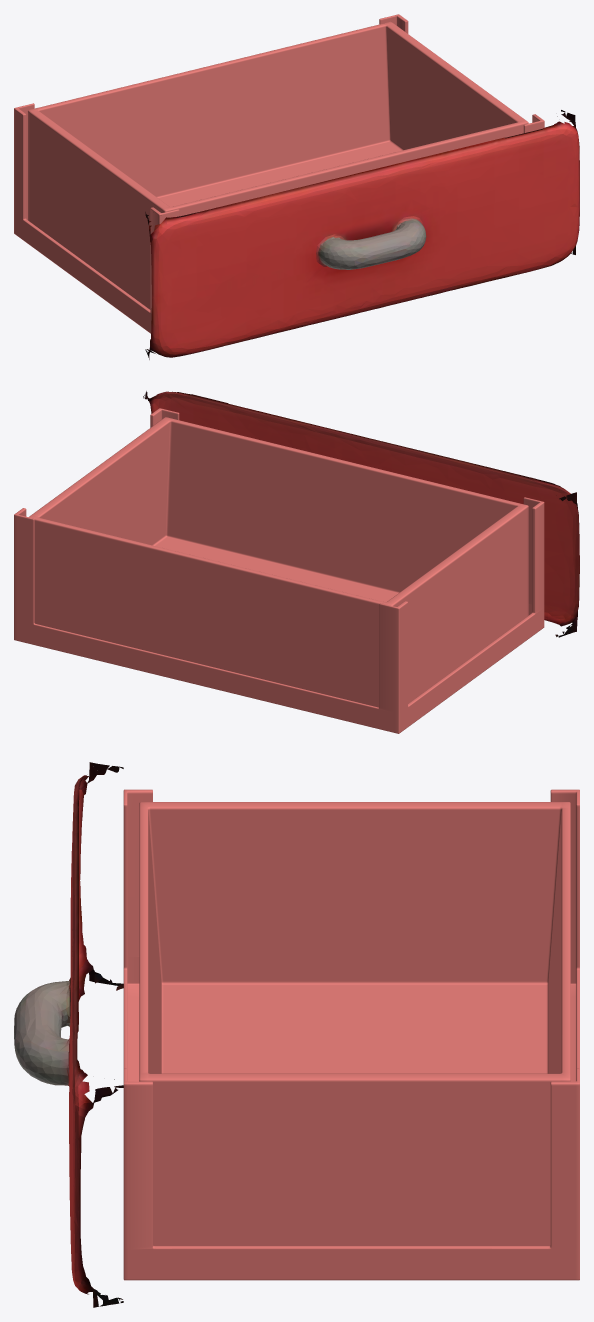
File: drawer_middle.glb
3 renders of one model, top to bottom at view 1: azimuth 30°, elevation 25°; view 2: azimuth 150°, elevation 25°; view 3: azimuth 270°, elevation 25°, orthographic. The views are drawn at different scales.
Parts seen in each view (by area): view 1: prefab_drawer_body_2, source_front_cap_0; view 2: prefab_drawer_body_2, source_front_cap_0; view 3: prefab_drawer_body_2, source_front_cap_0.
Boxes of the visible parts, x1,y1,x2,y2 form: prefab_drawer_body_2: [14, 14, 544, 333]; source_front_cap_0: [145, 110, 579, 359]; prefab_drawer_body_2: [14, 408, 544, 733]; source_front_cap_0: [143, 391, 579, 637]; prefab_drawer_body_2: [123, 789, 579, 1280]; source_front_cap_0: [14, 762, 123, 1307].
Size of the model in its own units: 0.5261 by 0.164 by 0.3848.
2 materials, 1 textured.
